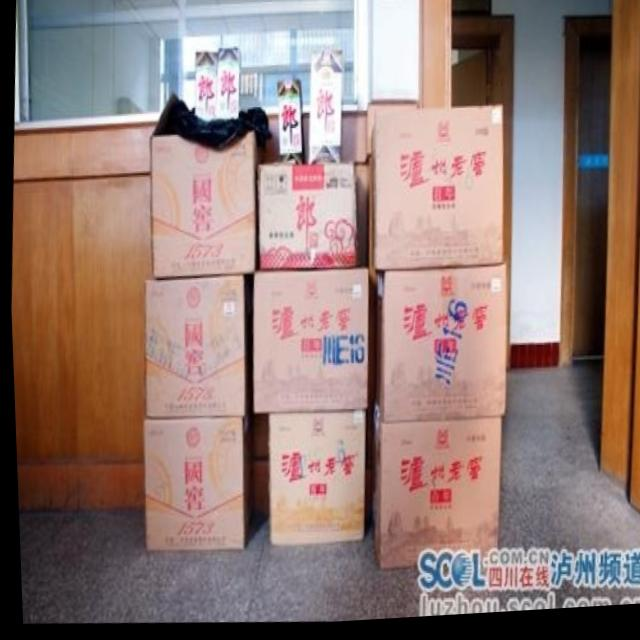box: (365, 393, 498, 576), (368, 110, 500, 272), (370, 268, 504, 425), (250, 273, 365, 419), (150, 135, 254, 281), (140, 417, 249, 553), (142, 277, 242, 419), (264, 418, 363, 542), (258, 168, 357, 271), (307, 53, 341, 168), (366, 103, 416, 153), (276, 81, 304, 162), (194, 55, 219, 123), (219, 50, 239, 121)
